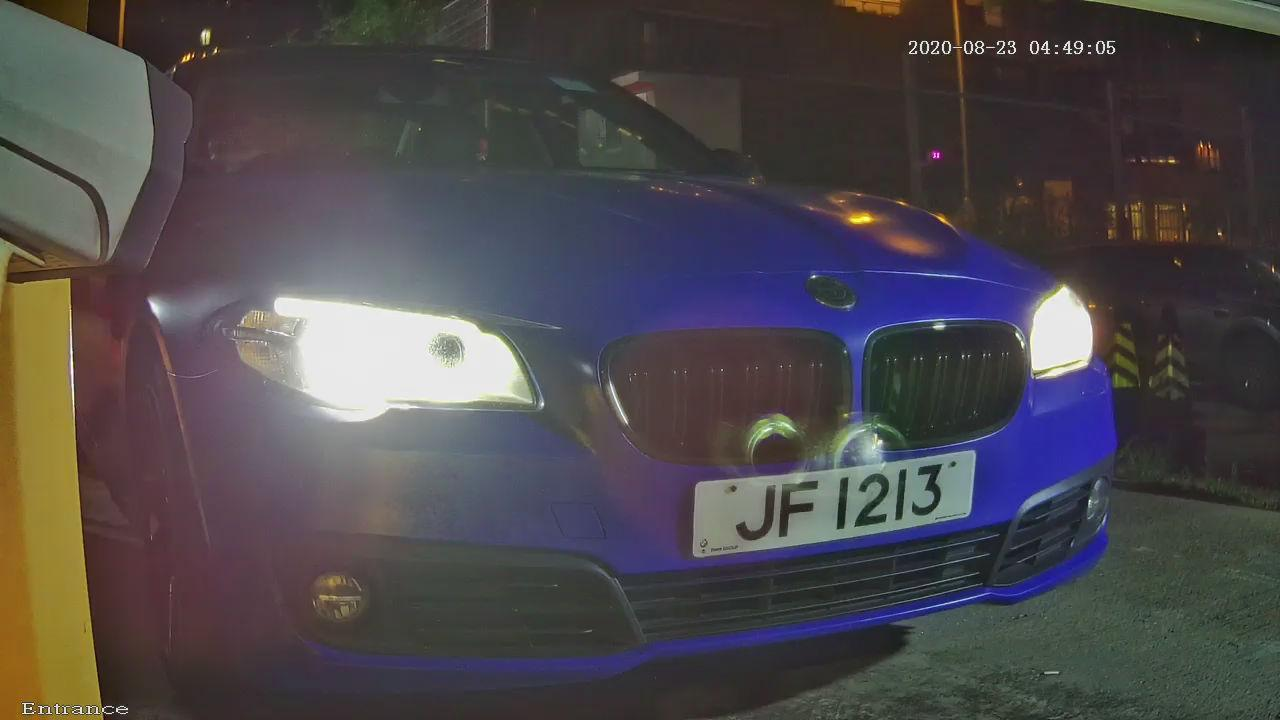Car: (35, 7, 1195, 714)
License Plate: (662, 414, 1019, 599)
